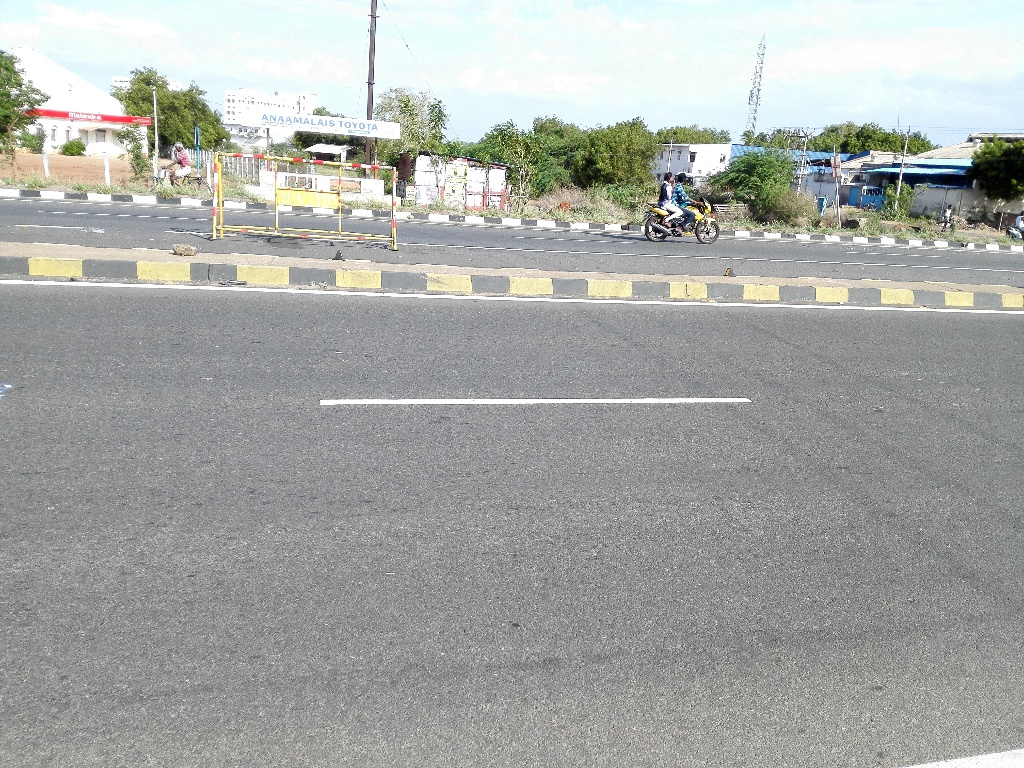biker: (635, 141, 727, 254)
nohelmet: (675, 167, 692, 192), (660, 164, 677, 189)
